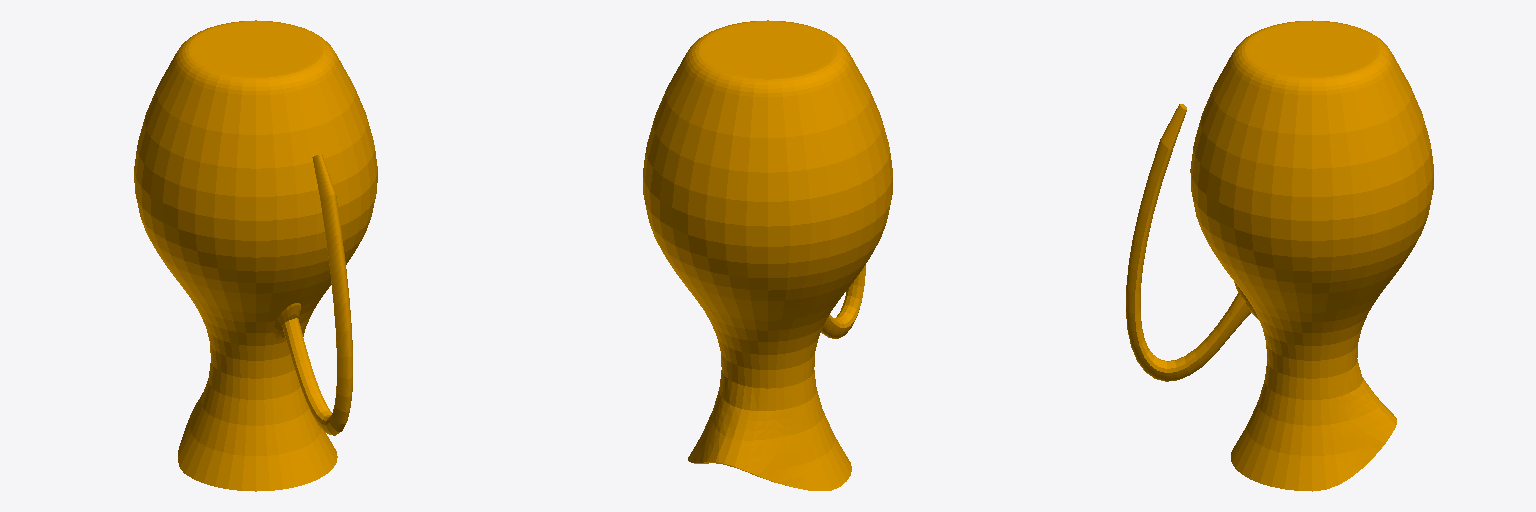
URDF robot description (jar_model):
<robot name="jar_model">
  <link name="jar_body">
    <inertial>
      <mass value="10.0" />
      <!-- center of mass (com) is defined w.r.t. link local coordinate system -->
      <origin xyz="0.25 -0.5 0" /> 
      <inertia  ixx="10.0" ixy="0.0"  ixz="0.0"  iyy="10.0"  iyz="0.0"  izz="10.0" />
    </inertial>
    <visual>
      <!-- visual origin is defined w.r.t. link local coordinate system -->
      <origin xyz="0 0 0" rpy="3.1416 0 0" />
      <geometry>
        <mesh filename="jar.stl" scale="0.02 0.02 0.025"/>
      </geometry>
    </visual>
    <collision>
      <!-- collision origin is defined w.r.t. link local coordinate system -->
      <origin xyz="0 0 0" rpy="3.1416 0 0" />
      <geometry>
        <mesh filename="jar.stl" scale="0.02 0.02 0.025"/>
      </geometry>
    </collision>
  </link>
  <gazebo reference="table_body">
    <material>Gazebo/LightWood</material>
  </gazebo>
</robot>

--- Render facts (derived) ---
3 views of the same robot in one strip: view 1: azimuth 30°, elevation 25°; view 2: azimuth 150°, elevation 25°; view 3: azimuth 270°, elevation 25° (orthographic).
Robot: jar_model — 1 links, 0 joints (none); root link jar_body; default pose: every joint at zero.
Links seen in each view (by area): view 1: jar_body; view 2: jar_body; view 3: jar_body.
Boxes of the visible links, left/top/right/bottom form: jar_body: left=134, top=20, right=377, bottom=491; jar_body: left=643, top=20, right=892, bottom=490; jar_body: left=1126, top=20, right=1433, bottom=491.
Size in the robot's own frame: 2.97 by 3.76 by 5.48 metres.
Meshes: 1 distinct files referenced, 1 mesh visuals loaded (1 binary STL).
